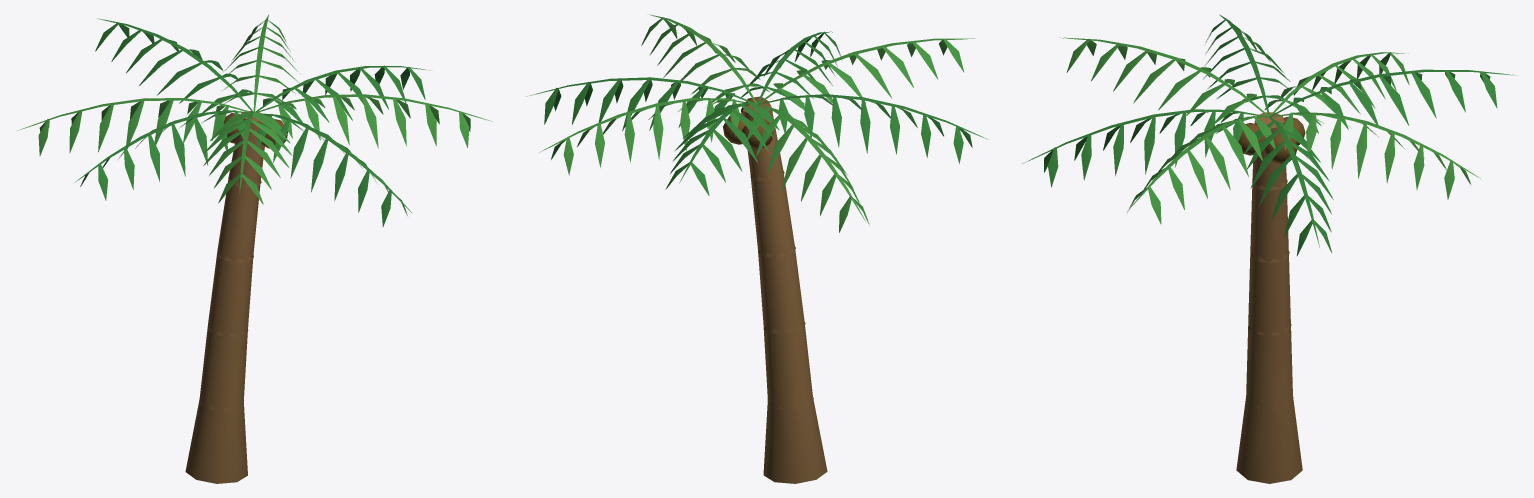
Rendered from tree-palm.glb.
3 views of the same model, side by side, from view 1: azimuth 30°, elevation 25°; view 2: azimuth 150°, elevation 25°; view 3: azimuth 270°, elevation 25° (orthographic). The views are drawn at different scales.
Parts seen in each view (by area): view 1: tree-palm; view 2: tree-palm; view 3: tree-palm.
Boxes of the visible parts, x1,y1,x2,y2 form: tree-palm: (17, 14, 492, 483); tree-palm: (527, 14, 987, 483); tree-palm: (1022, 14, 1516, 483).
Bounding box in the file's own units: 6.56 × 5.86 × 6.55.
